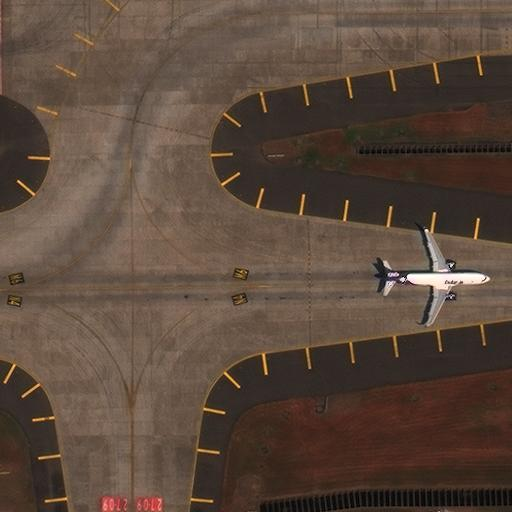Medium Civil Transport: (386, 227, 489, 325)
